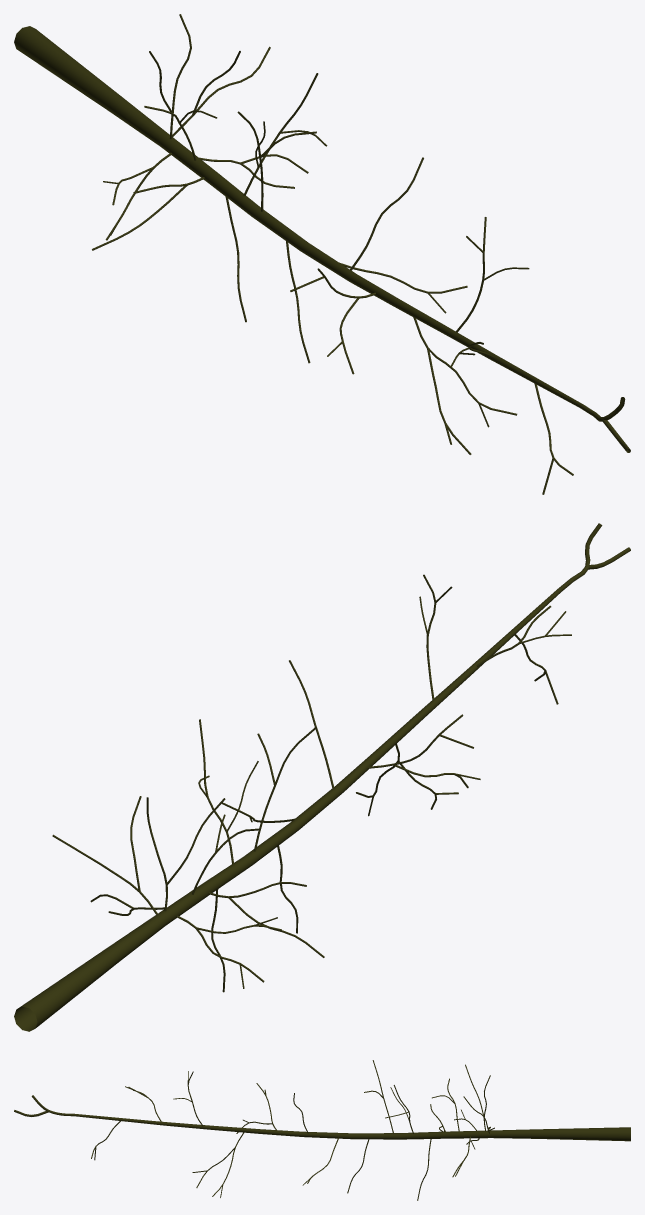
File: tree.obj
3 views of the same model, one above another, from view 1: azimuth 30°, elevation 25°; view 2: azimuth 150°, elevation 25°; view 3: azimuth 270°, elevation 25° (orthographic). The views are drawn at different scales.
Visible parts, largest first — view 1: tree; view 2: tree; view 3: tree.
Boxes of the visible parts, x1=… form: tree: x1=14, y1=14, x2=630, y2=494; tree: x1=14, y1=523, x2=630, y2=1031; tree: x1=14, y1=1060, x2=630, y2=1200.
Bounding box in the file's own units: 0.5574 × 0.5865 × 2.46.
